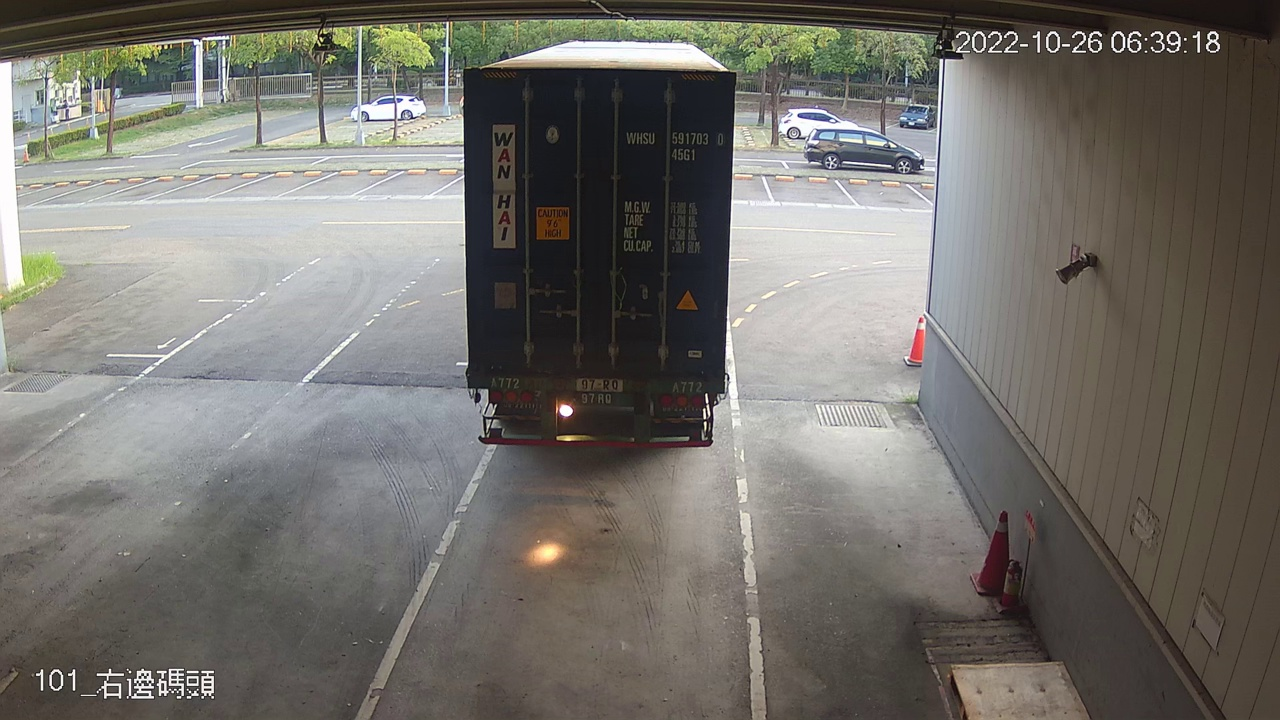container: (621, 123, 728, 169)
